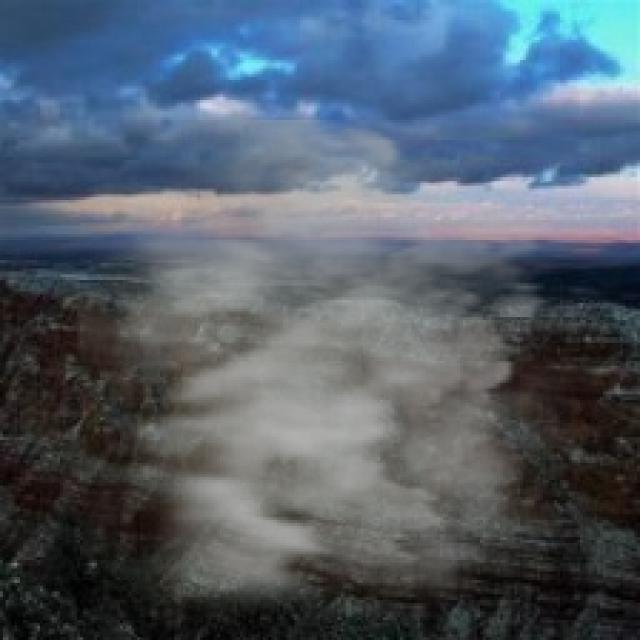Smoke: (77, 120, 612, 637)
